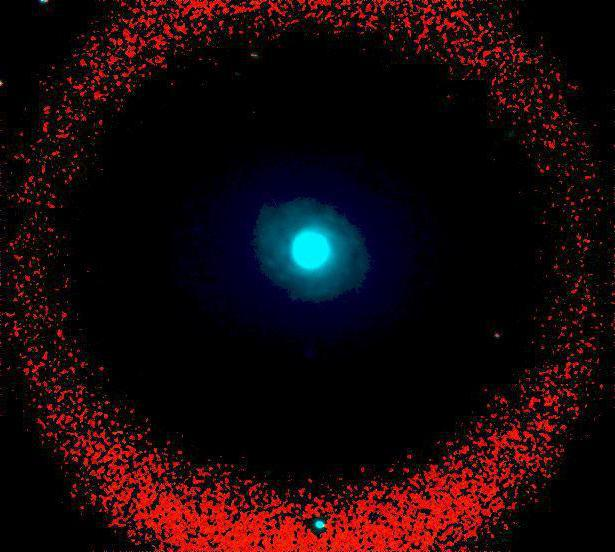star: (237, 95, 267, 125)
